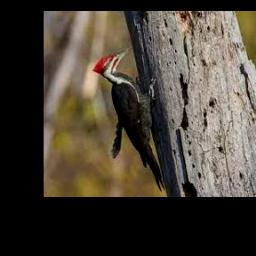Woodpecker: (92, 46, 165, 191)
